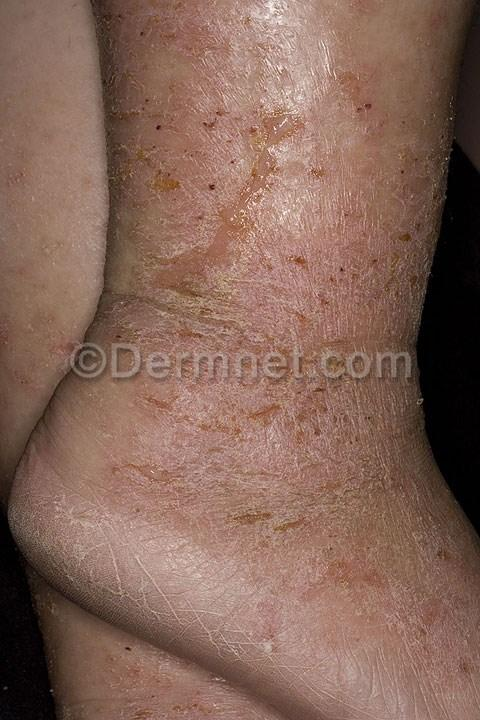Eczema: (297, 9, 375, 112), (376, 462, 456, 562), (189, 451, 262, 553), (261, 454, 322, 560), (353, 380, 417, 470), (290, 392, 362, 471), (100, 291, 173, 368), (326, 473, 387, 563), (111, 451, 185, 523), (295, 308, 360, 389), (149, 379, 223, 450), (116, 200, 179, 281), (175, 304, 237, 381), (97, 129, 168, 196), (165, 0, 233, 69), (339, 560, 406, 630), (400, 561, 466, 632), (360, 297, 415, 380), (225, 388, 295, 452), (230, 7, 298, 72), (229, 249, 282, 332), (267, 233, 327, 306), (101, 644, 157, 720), (180, 231, 242, 299), (295, 133, 357, 197), (177, 156, 227, 230), (432, 617, 480, 693), (385, 153, 443, 214), (373, 208, 417, 288), (219, 194, 277, 254), (237, 101, 289, 167), (187, 97, 247, 154), (105, 60, 172, 111), (96, 3, 167, 51), (154, 666, 217, 720), (317, 237, 370, 301), (236, 330, 292, 390), (33, 223, 89, 282), (276, 567, 338, 616), (0, 140, 43, 206), (34, 311, 84, 359), (0, 297, 29, 379), (0, 242, 49, 289), (292, 194, 348, 231), (235, 167, 279, 209), (422, 116, 459, 162), (346, 192, 370, 237)
